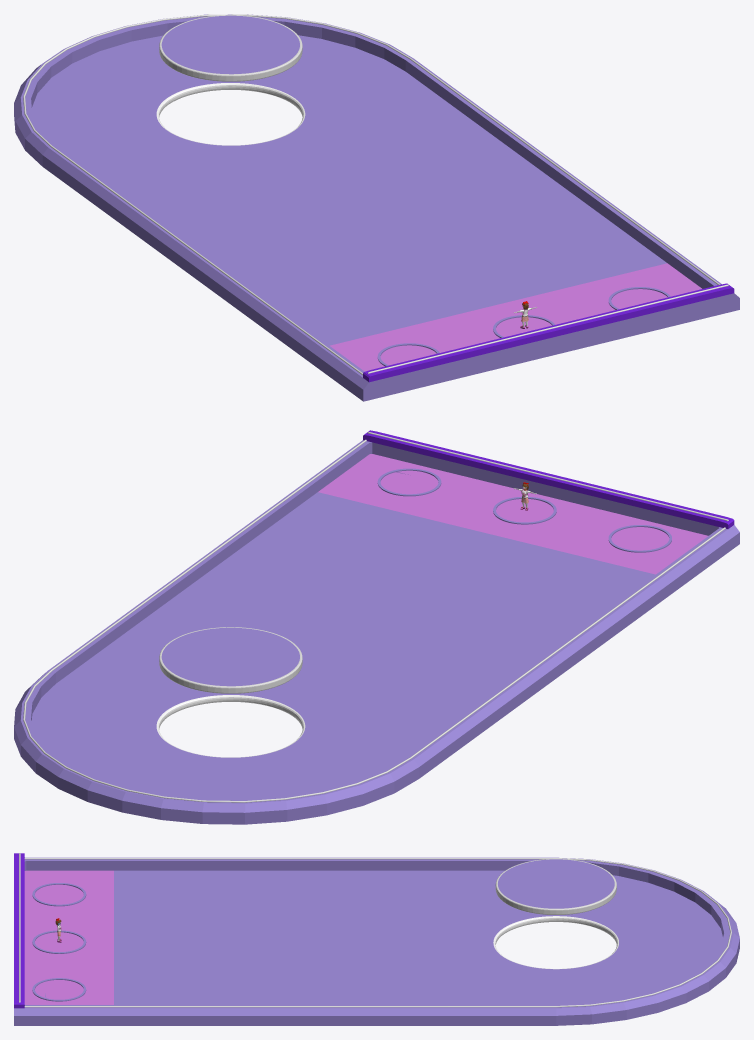
Rendered from Platform_Deneme.fbx.
3 renders of one model, top to bottom at view 1: azimuth 30°, elevation 25°; view 2: azimuth 150°, elevation 25°; view 3: azimuth 270°, elevation 25°, orthographic. The views are drawn at different scales.
Visible parts, largest first — view 1: Base_Mesh, Base_Mesh_Hole, Circle; view 2: Base_Mesh, Base_Mesh_Hole, Circle; view 3: Base_Mesh, Base_Mesh_Hole, Circle.
Boxes of the visible parts, box(x1,y1,x2,y2) form: Base_Mesh: box(14, 14, 739, 401); Base_Mesh_Hole: box(159, 15, 302, 81); Circle: box(23, 14, 728, 375); Base_Mesh: box(14, 430, 739, 824); Base_Mesh_Hole: box(159, 627, 302, 693); Circle: box(23, 432, 728, 802); Base_Mesh: box(14, 853, 739, 1025); Base_Mesh_Hole: box(495, 858, 616, 914); Circle: box(19, 853, 731, 1007).
Size of the model in its own units: 2773 by 535 by 5479.
